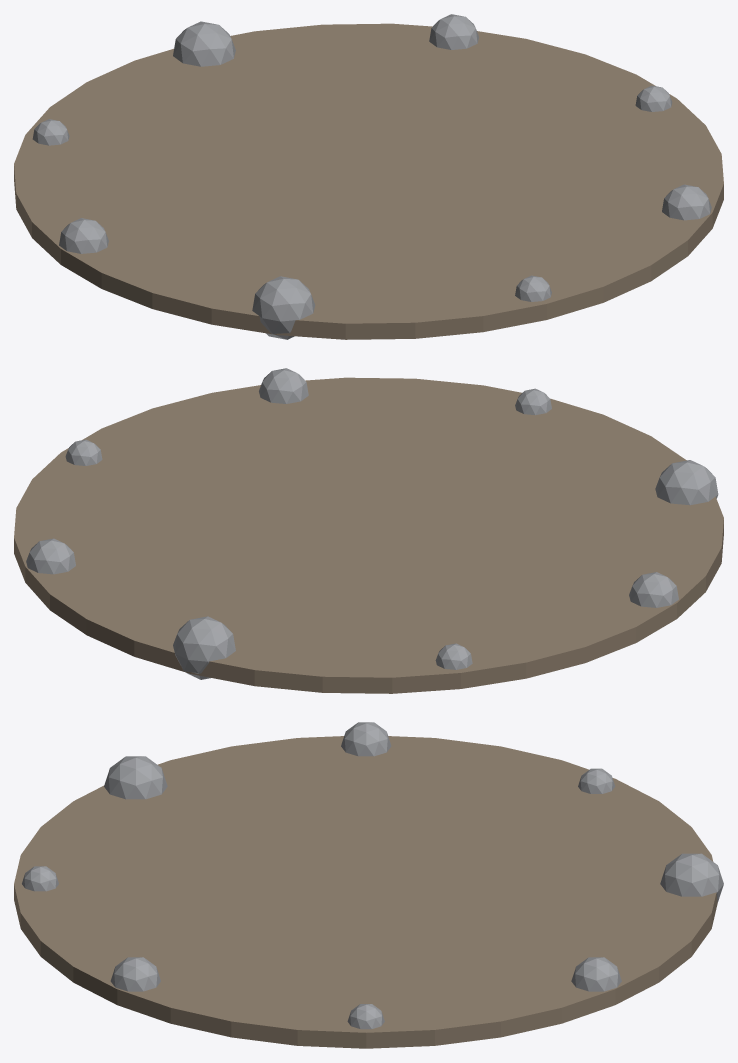
Rendered from pond_basin.glb.
The picture shows the model from 3 angles, top to bottom: view 1: azimuth 30°, elevation 25°; view 2: azimuth 150°, elevation 25°; view 3: azimuth 270°, elevation 25°; orthographic projection.
Parts seen in each view (by area): view 1: Pond_Basin_Natural; view 2: Pond_Basin_Natural; view 3: Pond_Basin_Natural.
Boxes of the visible parts, x1,y1,x2,y2 form: Pond_Basin_Natural: (14,14,723,339); Pond_Basin_Natural: (14,368,723,693); Pond_Basin_Natural: (14,722,723,1048).
Bounding box in the file's own units: 32 × 2.9 × 32.25.
